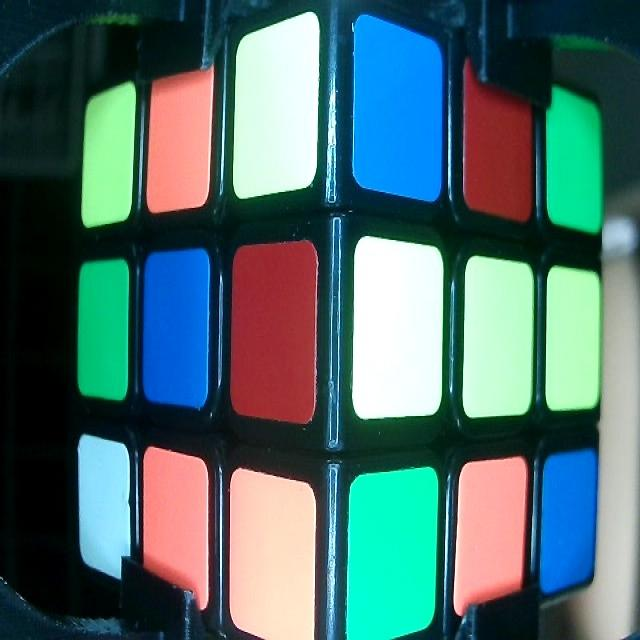b: (354, 44, 442, 175), (146, 265, 207, 390), (546, 466, 595, 568)
g: (350, 488, 430, 619), (548, 108, 602, 213), (80, 276, 126, 377)
o: (231, 492, 314, 626), (460, 475, 524, 595), (146, 465, 208, 585), (151, 85, 208, 190)
r: (232, 269, 313, 407), (465, 99, 528, 208)
w: (358, 257, 439, 394), (79, 445, 129, 565)
y: (238, 55, 314, 174), (469, 270, 530, 408), (550, 279, 596, 393), (86, 106, 134, 209)
